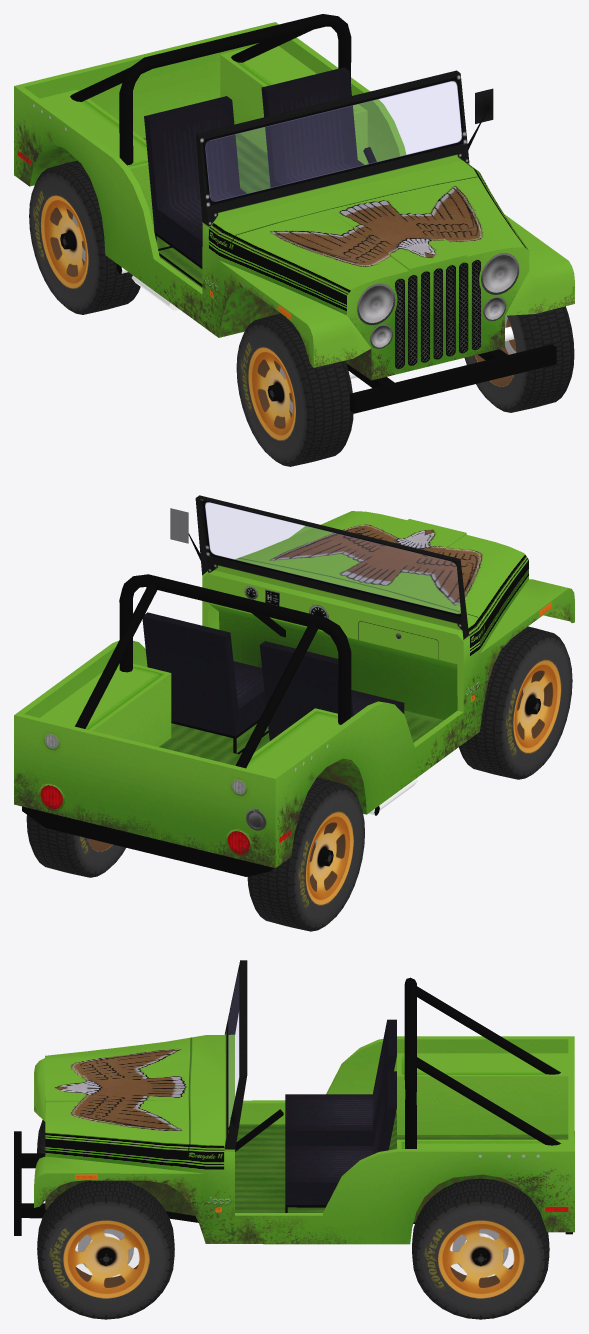
The model's file is pimley_jeep_401_15a5b5c6d763.glb.
3 renders of one model, top to bottom at view 1: azimuth 30°, elevation 25°; view 2: azimuth 150°, elevation 25°; view 3: azimuth 270°, elevation 25°, orthographic. The views are drawn at different scales.
Parts seen in each view (by area): view 1: BODY, INTERIOR, WHEEL_0, WHEEL_2, WHEEL_1; view 2: BODY, INTERIOR, WHEEL_0, WHEEL_2, WHEEL_3; view 3: BODY, WHEEL_1, WHEEL_3, INTERIOR.
Boxes of the visible parts, box(x1,y1,x2,y2) form: BODY: box(14, 14, 574, 413); INTERIOR: box(144, 67, 376, 286); WHEEL_0: box(236, 313, 353, 466); WHEEL_2: box(29, 160, 140, 314); WHEEL_1: box(464, 306, 574, 412); BODY: box(14, 495, 574, 876); INTERIOR: box(142, 612, 404, 754); WHEEL_0: box(459, 626, 572, 779); WHEEL_2: box(247, 777, 364, 931); WHEEL_3: box(26, 815, 125, 877); BODY: box(14, 960, 574, 1244); WHEEL_1: box(37, 1180, 174, 1319); WHEEL_3: box(412, 1178, 549, 1319); INTERIOR: box(235, 1019, 396, 1212).
Bounding box in the file's own units: 1.71 × 1.51 × 3.13.
Materials: 29 (29 with a texture image).
